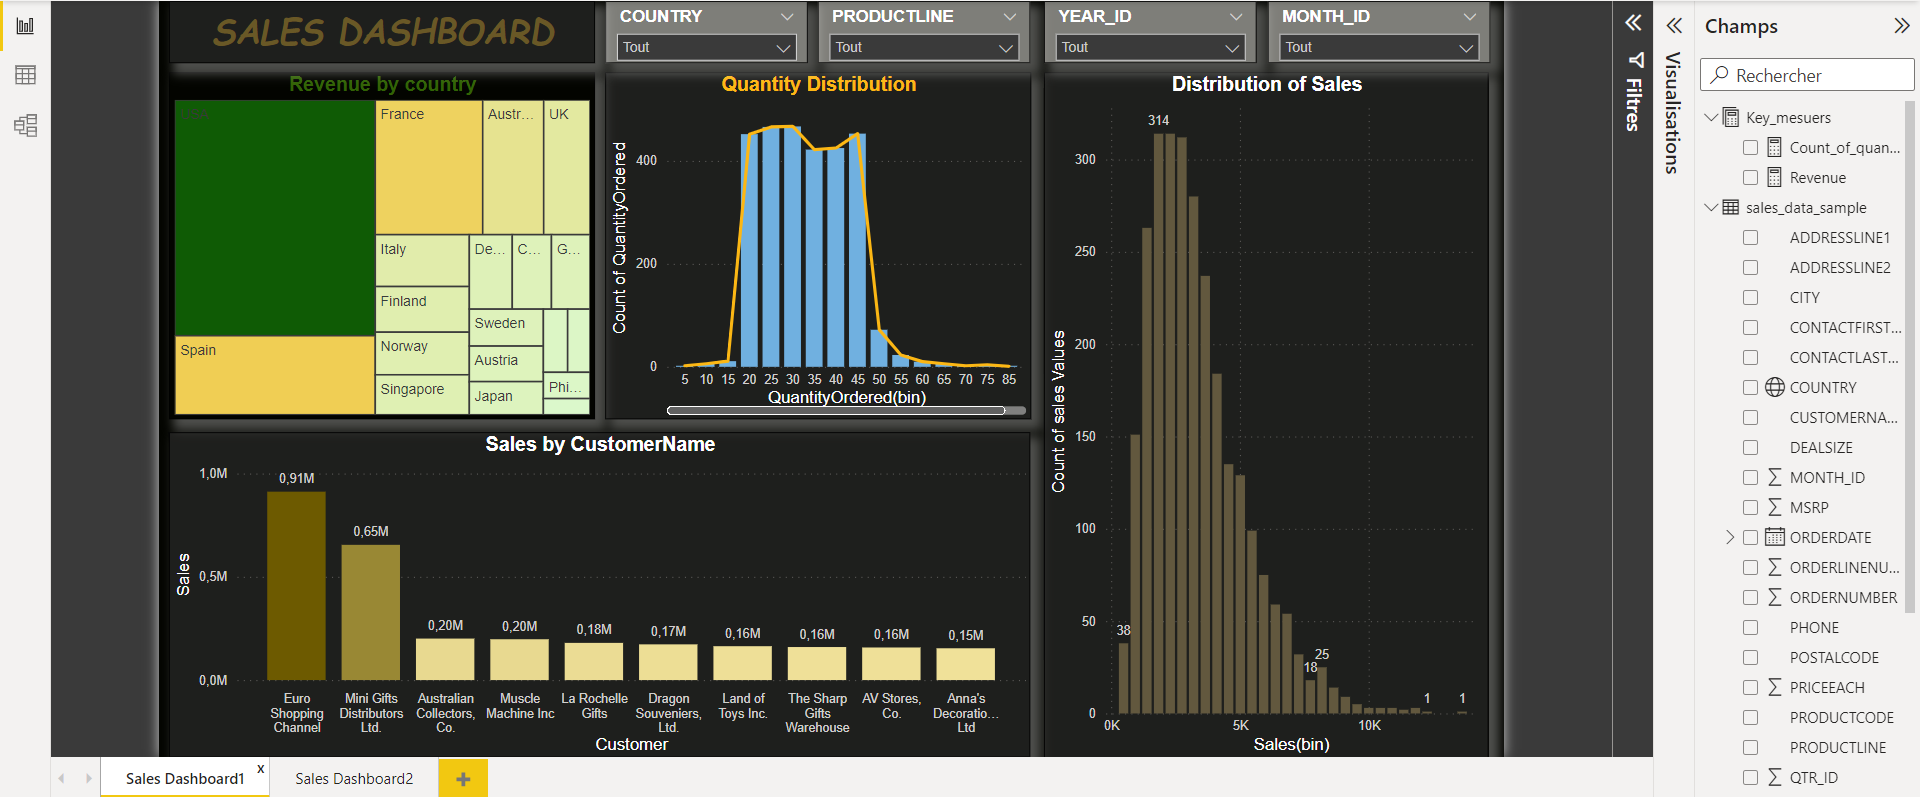

The dashboard page shown, as its layout file describes it:
{"tool":"powerbi","page":{"name":"Sales Dashboard1","canvas":[1280,720],"ordinal":0},"visuals":[{"type":"treemap","title":"Revenue by country","fields":{"Group":["sales_data_sample.COUNTRY"],"Values":["Key_mesuers.Revenue"]},"box":[9.6,67.5,405.2,330.5],"z":0},{"type":"lineStackedColumnComboChart","title":"Quantity Distribution","fields":{"Category":["sales_data_sample.QUANTITYORDERED (compartiments)"],"Y":["Key_mesuers.Count_of_quantity_order"],"Y2":["CountNonNull(sales_data_sample.QUANTITYORDERED (compartiments))"]},"box":[424.5,67.5,405.2,330.5],"z":1000},{"type":"clusteredColumnChart","title":"Sales by CustomerName","fields":{"Category":["sales_data_sample.CUSTOMERNAME"],"Y":["Key_mesuers.Revenue"]},"box":[9.6,410.1,820.1,309.9],"z":2000},{"type":"clusteredColumnChart","title":"Distribution of Sales","fields":{"Y":["Count(sales_data_sample.SALES)"],"Category":["sales_data_sample.SALES (compartiments)"]},"box":[843,67.5,423.3,652.5],"z":3000},{"type":"slicer","fields":{"Values":["sales_data_sample.COUNTRY"]},"box":[424.5,0,193,59.1],"z":3001},{"type":"slicer","fields":{"Values":["sales_data_sample.PRODUCTLINE"]},"box":[627.1,0,202.6,59.1],"z":3002},{"type":"slicer","fields":{"Values":["sales_data_sample.YEAR_ID"]},"box":[843,0,202.6,59.1],"z":3003},{"type":"slicer","fields":{"Values":["sales_data_sample.MONTH_ID"]},"box":[1055.3,0,212.3,59.1],"z":3004},{"type":"textbox","box":[9.6,0,405.2,59.1],"z":3005}]}

Visuals, with their boxes on the page's 1280x720 design canvas (x1, y1, x2, y2). These are canvas units, not pixel positions in the 1920x797 screenshot, which may show the page scaled, cropped or inside an application window:
"Revenue by country" treemap: 10,68,415,398
"Quantity Distribution" lineStackedColumnComboChart: 424,68,830,398
"Sales by CustomerName" clusteredColumnChart: 10,410,830,720
"Distribution of Sales" clusteredColumnChart: 843,68,1266,720
slicer - sales_data_sample.COUNTRY: 424,0,618,59
slicer - sales_data_sample.PRODUCTLINE: 627,0,830,59
slicer - sales_data_sample.YEAR_ID: 843,0,1046,59
slicer - sales_data_sample.MONTH_ID: 1055,0,1268,59
textbox: 10,0,415,59
